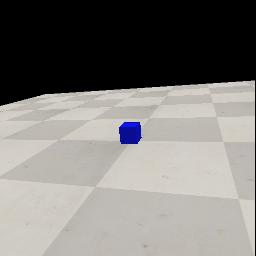box: (119, 122, 142, 144)
